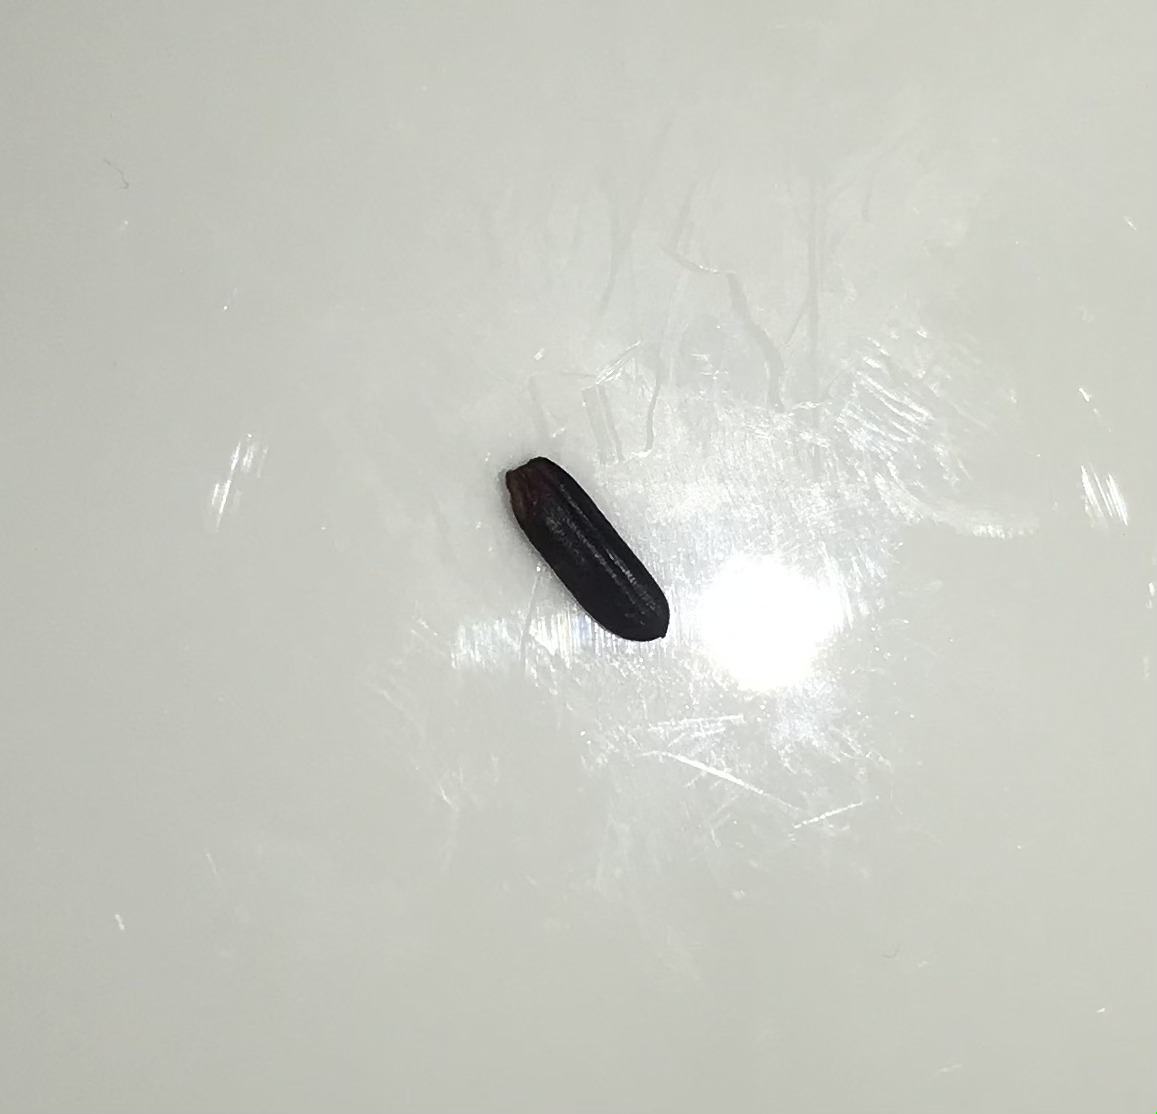Gao lut: (500, 454, 673, 648)
